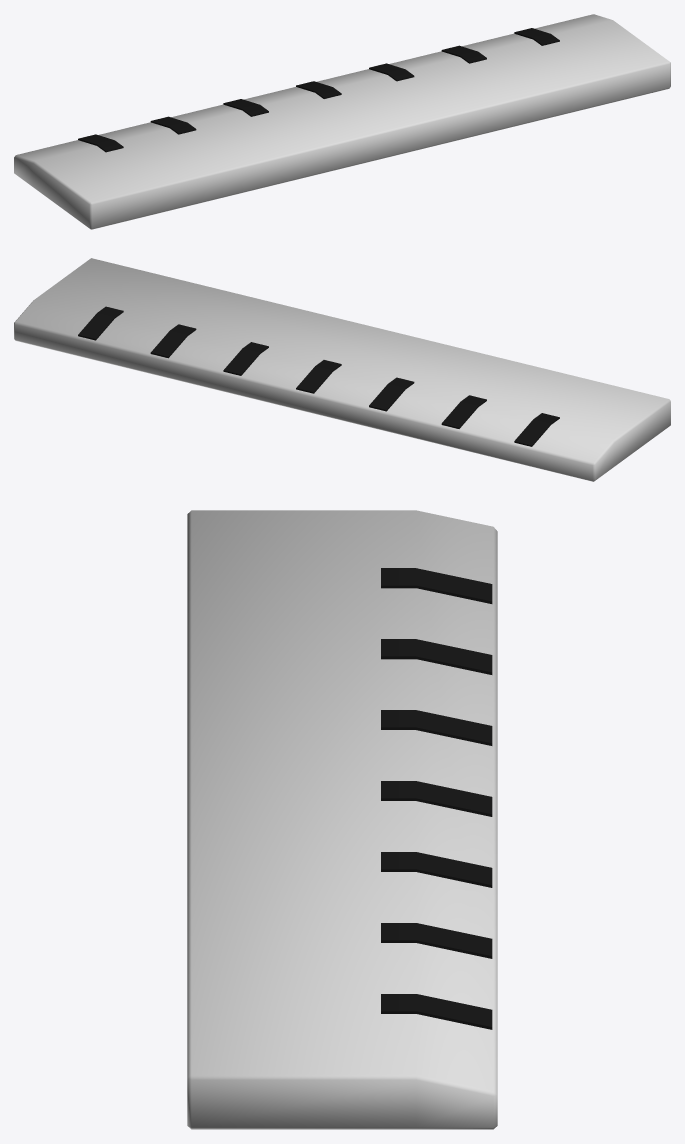
File: rular.fbx
The picture shows the model from 3 angles, top to bottom: view 1: azimuth 30°, elevation 25°; view 2: azimuth 150°, elevation 25°; view 3: azimuth 270°, elevation 25°; orthographic projection. The views are drawn at different scales.
Parts seen in each view (by area): view 1: rular, rular.001; view 2: rular, rular.001; view 3: rular, rular.001.
Part boxes in pixels (x1,y1,x2,y2): rular: (14,14,670,229); rular.001: (78,28,559,152); rular: (14,258,670,481); rular.001: (78,306,559,446); rular: (187,510,497,1129); rular.001: (381,568,492,1029).
Bounding box in the file's own units: 1.21 × 0.0574 × 0.2786.
